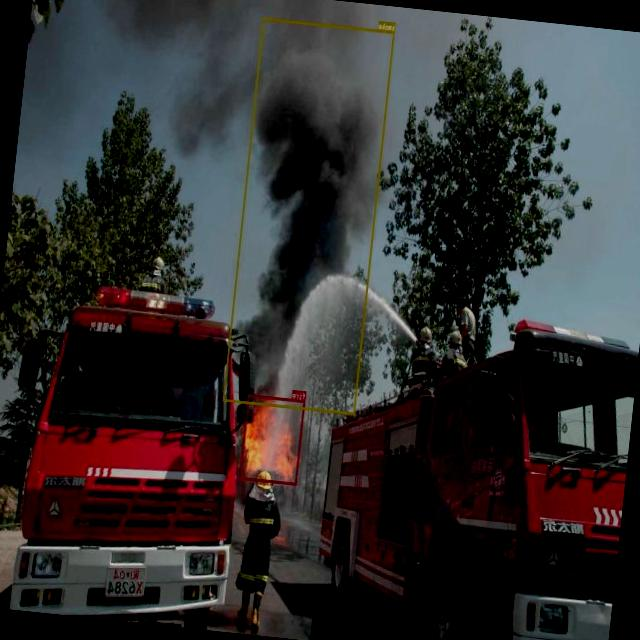fire: (239, 393, 306, 485)
smoke: (222, 17, 396, 414)
